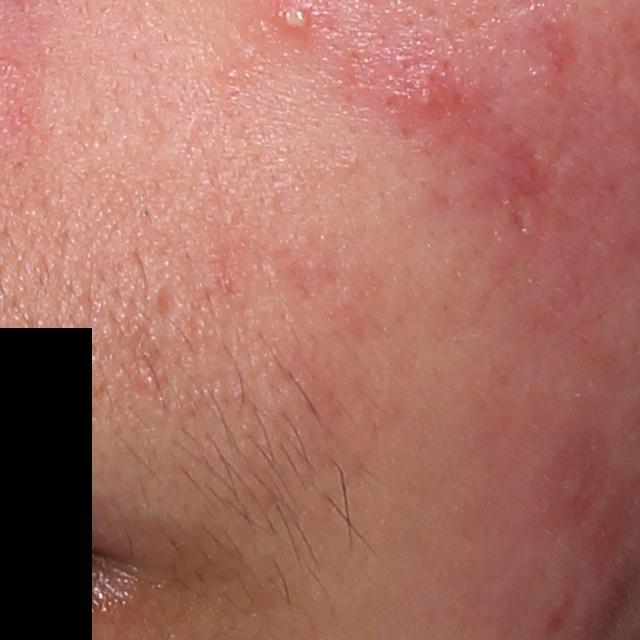atrophic_scar: (390, 63, 450, 126), (151, 284, 179, 321)
pustule: (273, 0, 310, 42)
